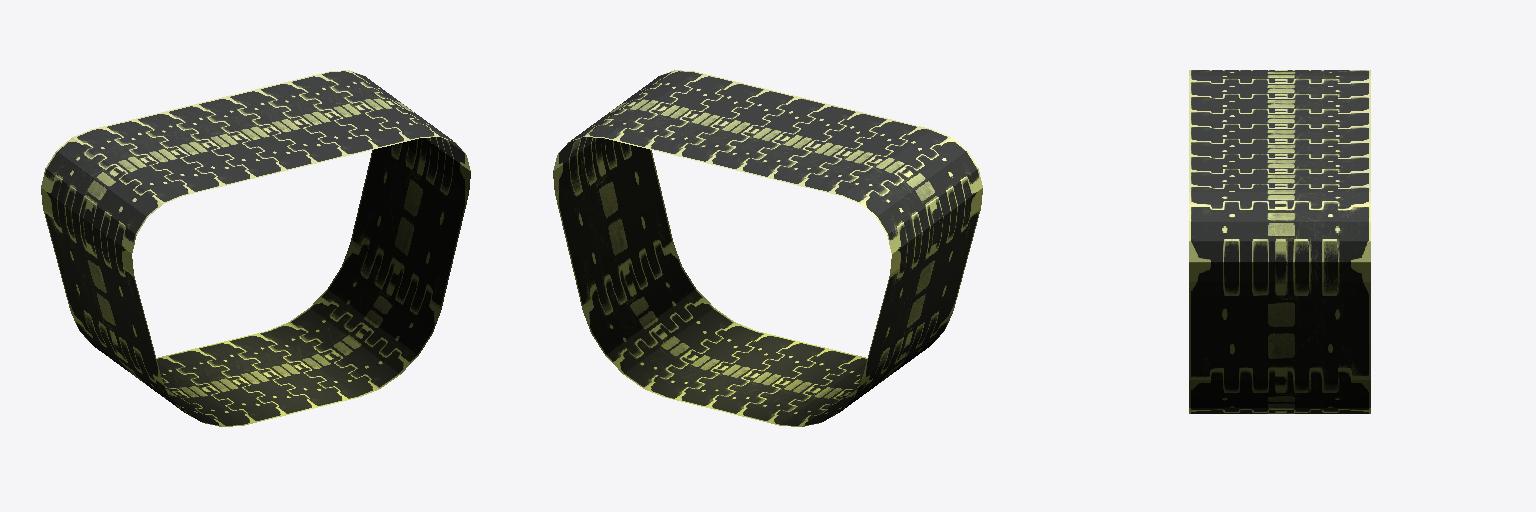
3 renders of one model, left to right at view 1: azimuth 30°, elevation 25°; view 2: azimuth 150°, elevation 25°; view 3: azimuth 270°, elevation 25°, orthographic.
Visible parts, largest first — view 1: Thread_r; view 2: Thread_r; view 3: Thread_r.
Part boxes in pixels (x1,y1,x2,y2): Thread_r: (41, 70, 470, 426); Thread_r: (553, 70, 982, 426); Thread_r: (1189, 70, 1370, 413).
Size of the model in its own units: 2.76 by 1.9 by 1.29.
1 materials, 1 textured.